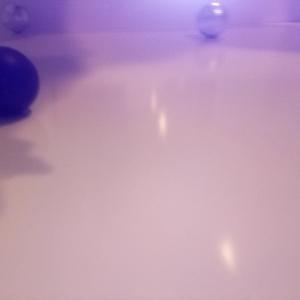alive_ball: (196, 1, 229, 37), (1, 2, 30, 33)
dead_ball: (1, 44, 39, 117)
